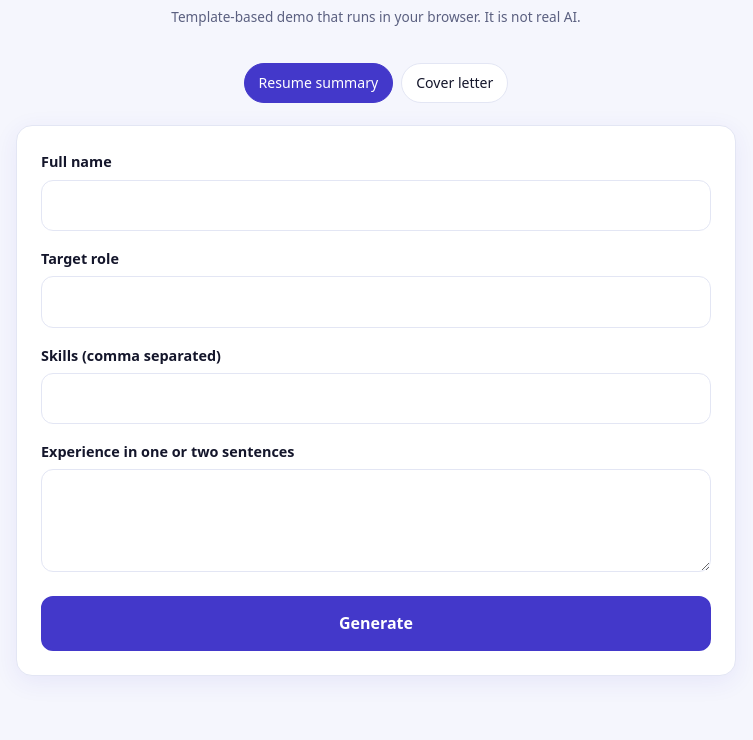
CareerCoach › validates required fields
(page scrolled)
Click the button "Generate".
click(376, 624)  # box [41,596,711,651]
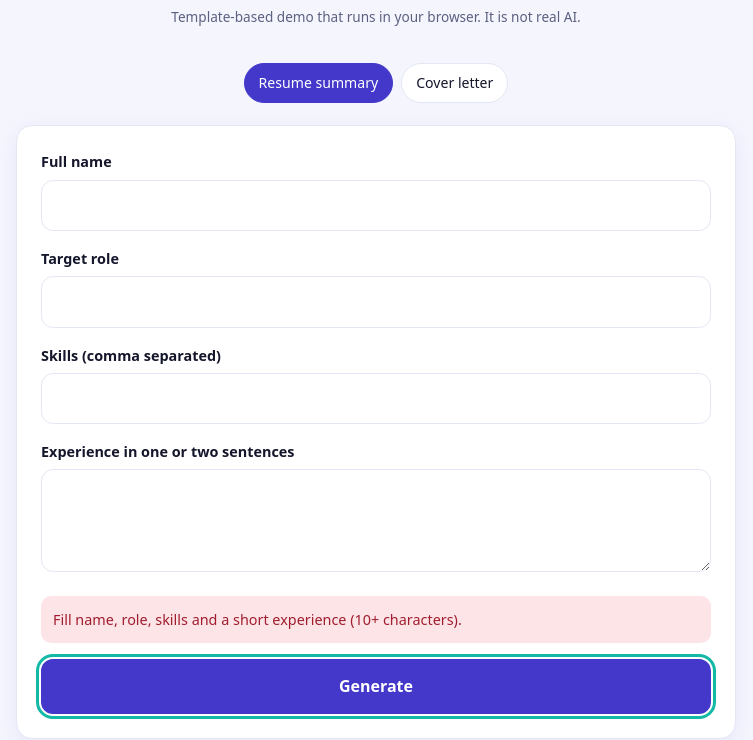
Result: the message shows "Fill name, role, skills" at [53,610,462,629]
